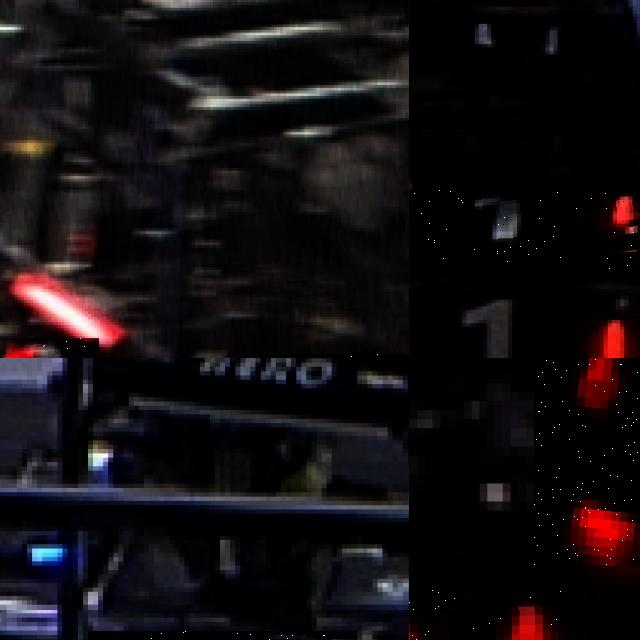R1: (409, 190, 640, 268), (409, 296, 636, 358)
R2: (0, 337, 98, 358)
R5: (534, 358, 640, 565)
